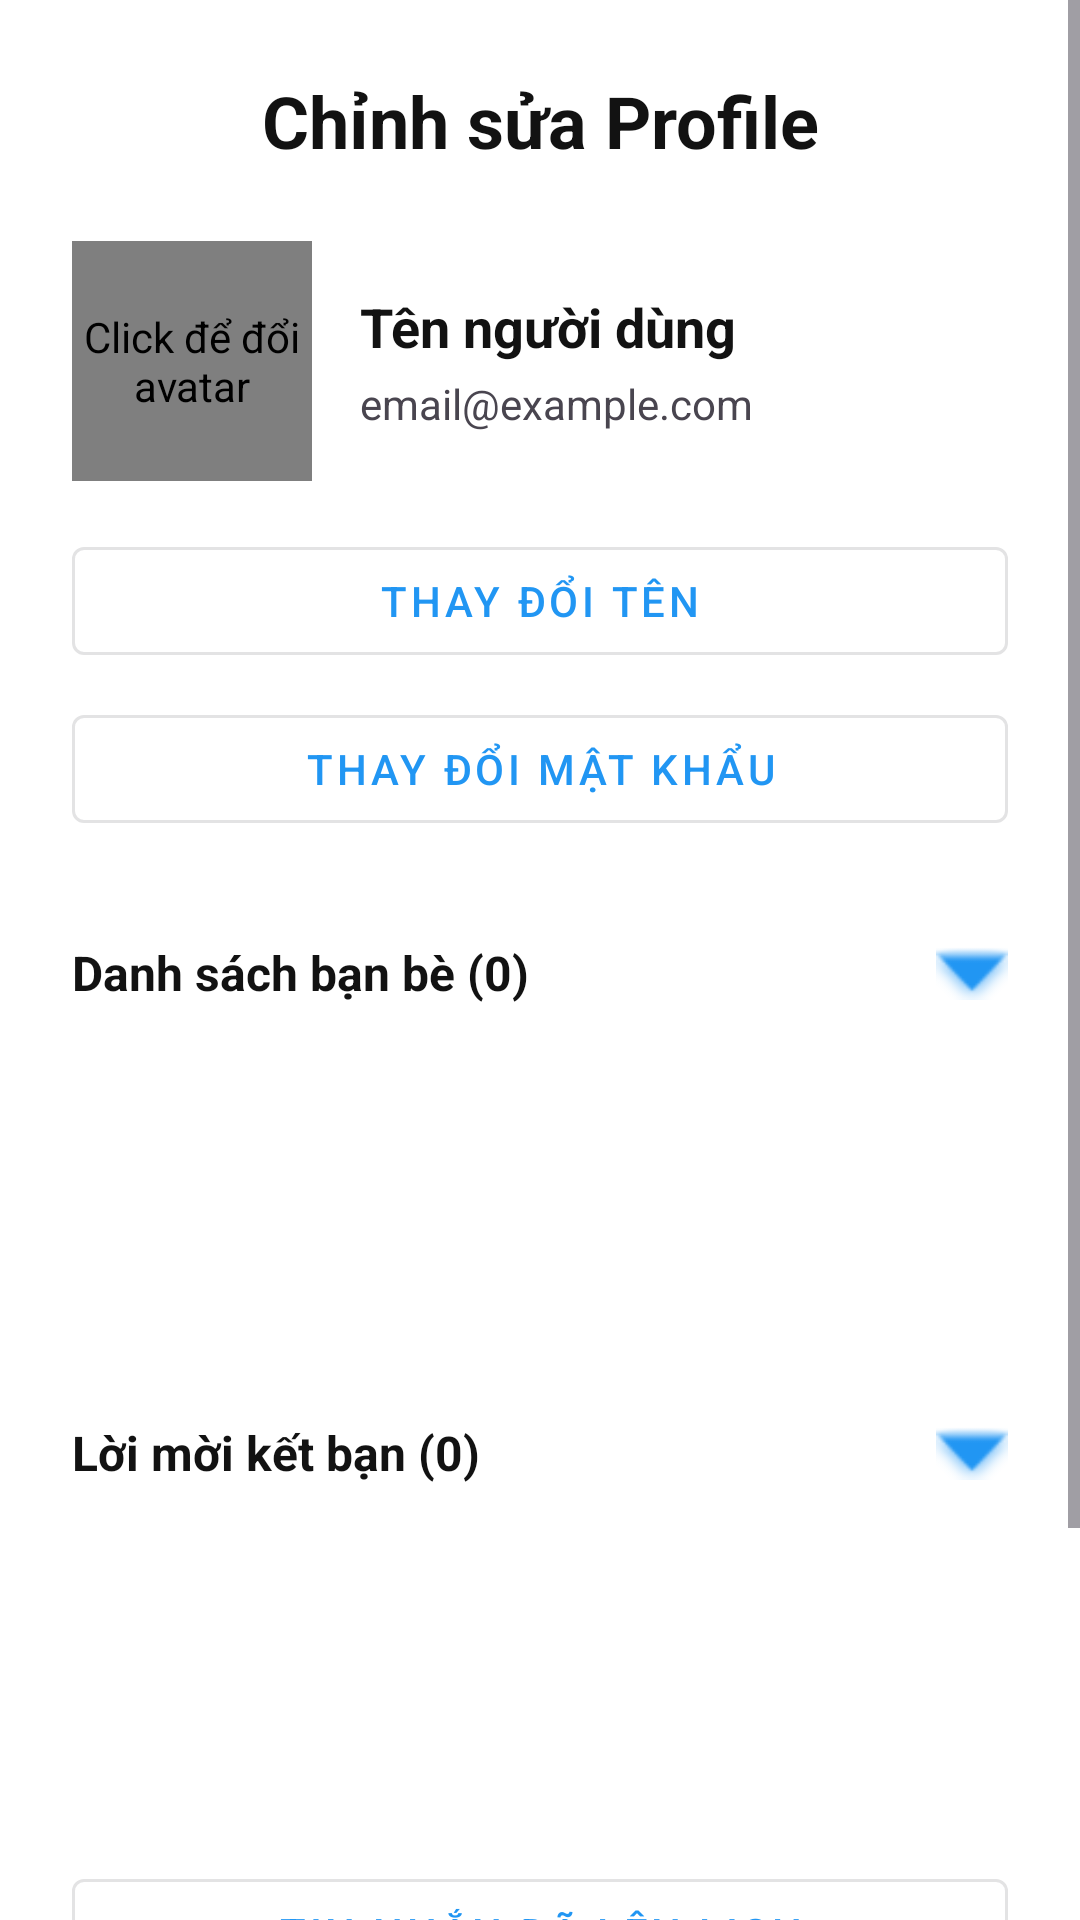

Where to tap for icons on this 1080*1920 app screen, as (x,y):
arrow down float: (972,973), (972,1453)
